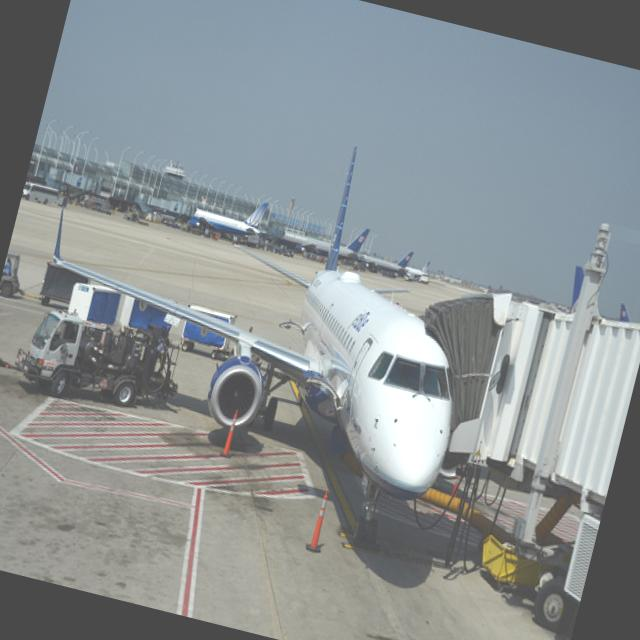Vehicle: (9, 304, 188, 425)
